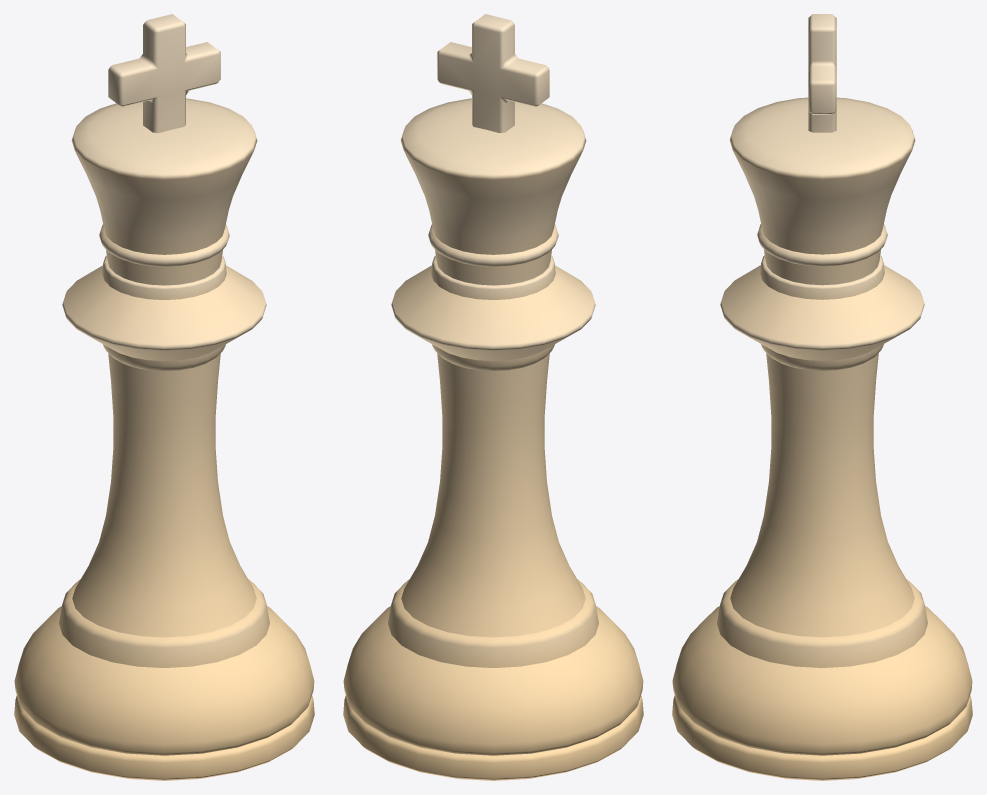
Rendered from Chess_White_King_01.fbx.
The picture shows the model from 3 angles, left to right: view 1: azimuth 30°, elevation 25°; view 2: azimuth 150°, elevation 25°; view 3: azimuth 270°, elevation 25°; orthographic projection.
Parts seen in each view (by area): view 1: Chess_White_King_01; view 2: Chess_White_King_01; view 3: Chess_White_King_01.
Boxes of the visible parts, x1,y1,x2,y2 form: Chess_White_King_01: (14,14,314,780); Chess_White_King_01: (343,14,643,780); Chess_White_King_01: (672,14,972,780).
Size of the model in its own units: 4.01 by 10.36 by 4.01.
